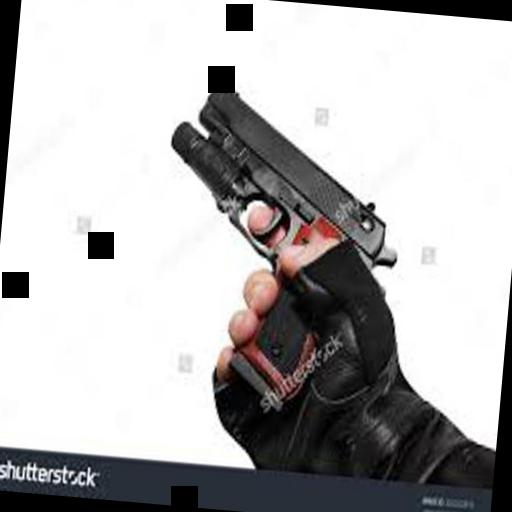Handgun: (143, 81, 405, 421)
